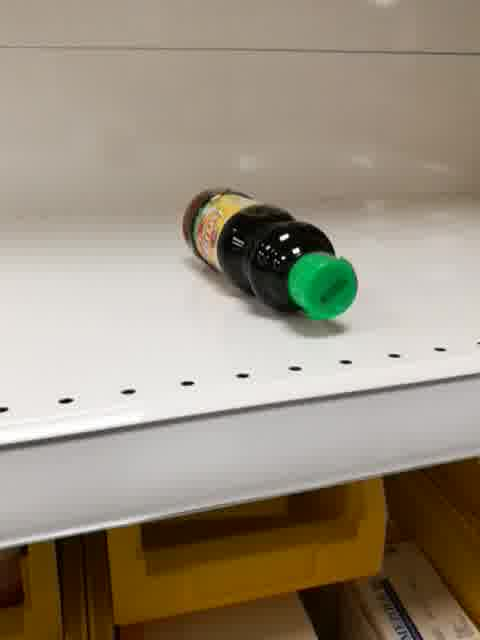cookingoil: (178, 182, 362, 322)
